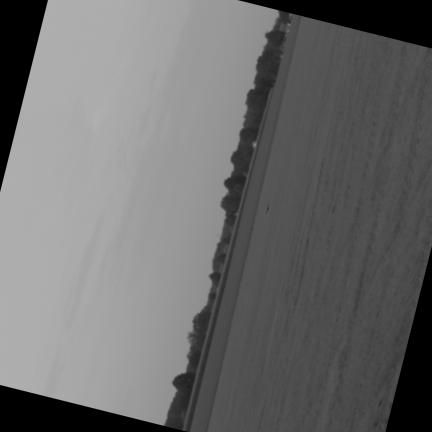Shahed: (265, 201, 270, 214)
